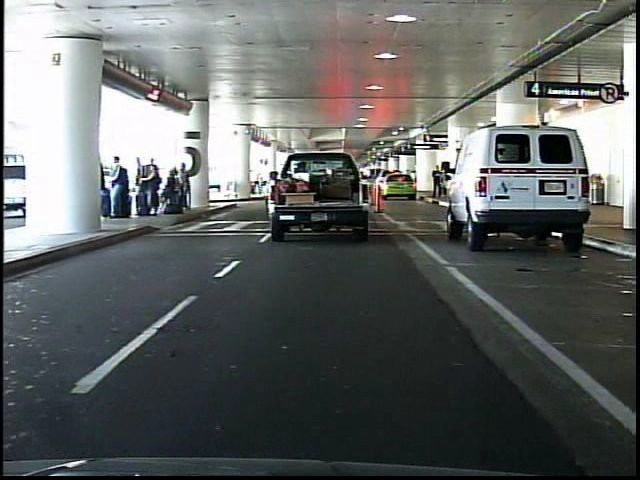person: (431, 165, 444, 201)
